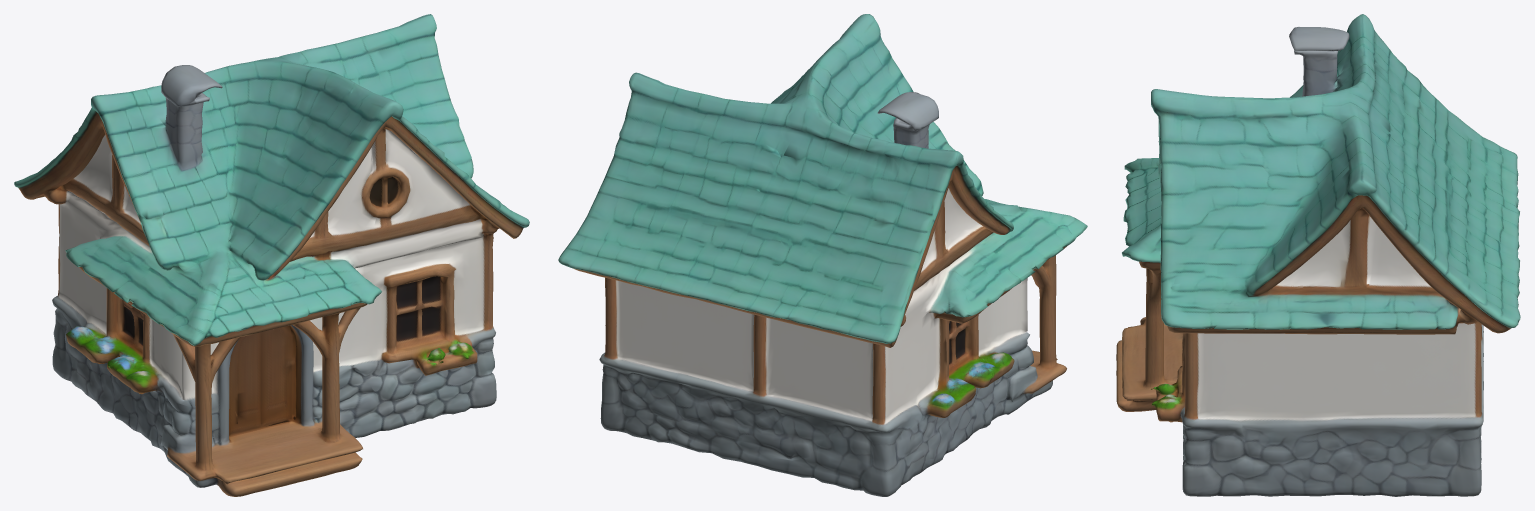
Rendered from cottage-source.glb.
3 views of the same model, side by side, from view 1: azimuth 30°, elevation 25°; view 2: azimuth 150°, elevation 25°; view 3: azimuth 270°, elevation 25° (orthographic). The views are drawn at different scales.
Visible parts, largest first — view 1: model; view 2: model; view 3: model.
Boxes of the visible parts, box(x1,y1,x2,y2) form: model: box(14, 14, 529, 496); model: box(558, 14, 1087, 496); model: box(1116, 14, 1520, 496).
Bounding box in the file's own units: 1.89 × 1.69 × 1.77.
1 material, 1 textured.
